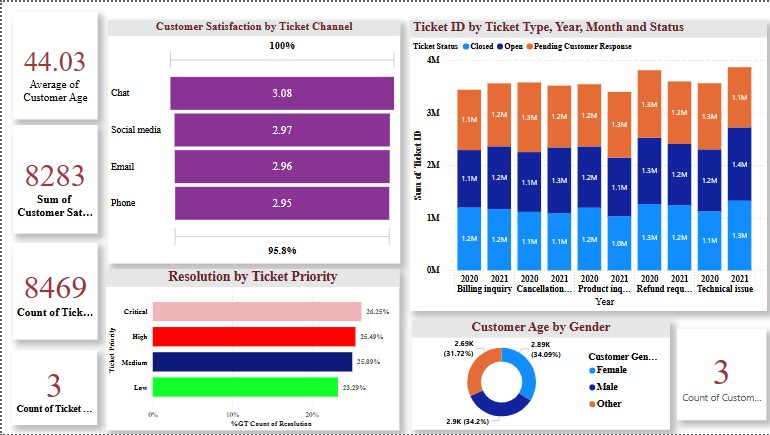

Layout of this report page (visuals, bound fields, positions):
{"tool":"powerbi","page":{"name":"Dashboard 2","canvas":[1280,720],"ordinal":1},"visuals":[{"type":"funnel","title":"Customer Satisfaction by Ticket Channel","fields":{"Category":["customer_support_tickets.Ticket Channel"],"Y":["Avg(customer_support_tickets.Customer Satisfaction Rating)"]},"box":[176.2,29.4,487,406.3],"z":0},{"type":"card","fields":{"Values":["Avg(customer_support_tickets.Customer Age)"]},"box":[17.5,15.9,141.5,178.5],"z":1000},{"type":"card","fields":{"Values":["Sum(customer_support_tickets.Customer Satisfaction Rating)"]},"box":[17.5,205.3,141.5,180.7],"z":2000},{"type":"card","fields":{"Values":["CountNonNull(customer_support_tickets.Ticket ID)"]},"box":[17.5,401.2,141.5,161.1],"z":3000},{"type":"barChart","title":"Resolution by Ticket Priority","fields":{"Category":["customer_support_tickets.Ticket Priority"],"Y":["CountNonNull(customer_support_tickets.Resolution)"]},"box":[173.8,445.4,489.5,269.2],"z":4000},{"type":"columnChart","title":"Ticket ID by Ticket Type, Year, Month and Status","fields":{"Category":["customer_support_tickets.Ticket Type","customer_support_tickets.Date of Purchase.Variation.Date Hierarchy.Year"],"Y":["Sum(customer_support_tickets.Ticket ID)"],"Series":["customer_support_tickets.Ticket Status"]},"box":[680.4,29.4,594.7,484.6],"z":5000},{"type":"card","fields":{"Values":["Count(customer_support_tickets.Ticket Status)"]},"box":[17.1,580,142,124.8],"z":6000},{"type":"donutChart","title":"Customer Age by Gender","fields":{"Y":["CountNonNull(customer_support_tickets.Customer Age)"],"Series":["customer_support_tickets.Customer Gender"]},"box":[682.7,530.3,429.7,182.9],"z":7000},{"type":"card","fields":{"Values":["Count(customer_support_tickets.Customer Gender)"]},"box":[1124.6,545.5,149.3,152.4],"z":8000}]}

Visuals, with their boxes in screenshot pixels (x1, y1, x2, y2), scaled from the page's 1280x720 canvas onto the 770x435 screenshot:
"Customer Satisfaction by Ticket Channel" funnel: [x1=106, y1=18, x2=399, y2=263]
card - Avg(customer_support_tickets.Customer Age): [x1=11, y1=10, x2=96, y2=117]
card - Sum(customer_support_tickets.Customer Satisfaction Rating): [x1=11, y1=124, x2=96, y2=233]
card - CountNonNull(customer_support_tickets.Ticket ID): [x1=11, y1=242, x2=96, y2=340]
"Resolution by Ticket Priority" barChart: [x1=105, y1=269, x2=399, y2=432]
"Ticket ID by Ticket Type, Year, Month and Status" columnChart: [x1=409, y1=18, x2=767, y2=311]
card - Count(customer_support_tickets.Ticket Status): [x1=10, y1=350, x2=96, y2=426]
"Customer Age by Gender" donutChart: [x1=411, y1=320, x2=669, y2=431]
card - Count(customer_support_tickets.Customer Gender): [x1=677, y1=330, x2=766, y2=422]
